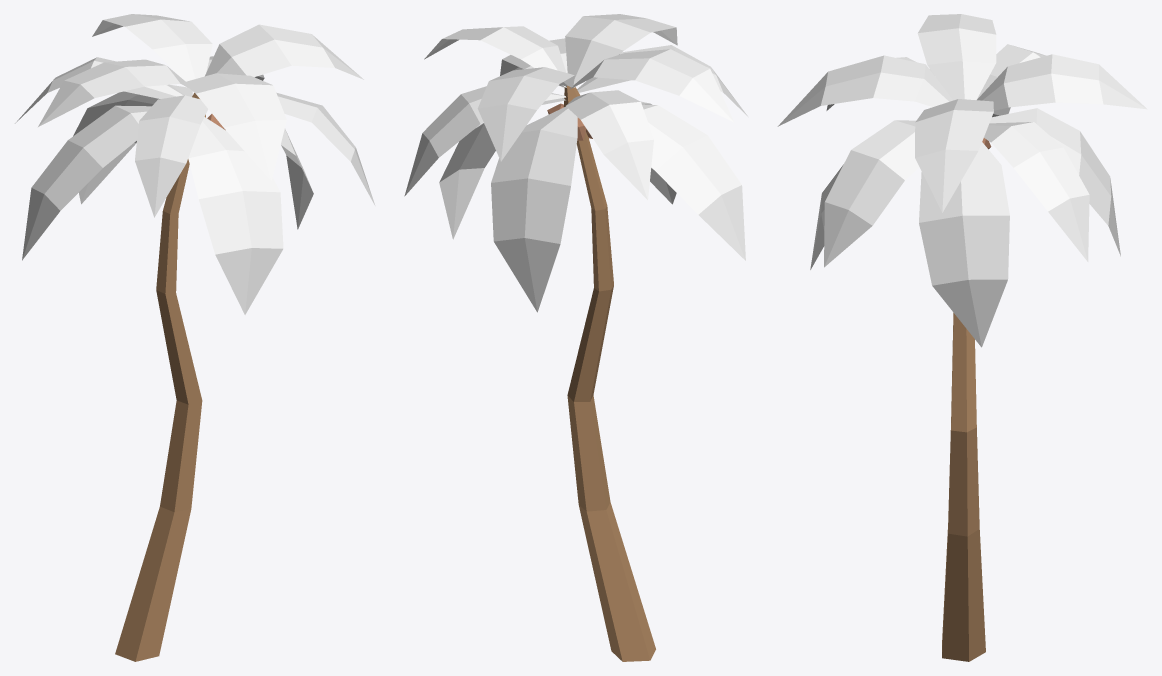
File: Palm_Tree_Coconut_OneSided_l_Snow_04.fbx
3 renders of one model, left to right at view 1: azimuth 30°, elevation 25°; view 2: azimuth 150°, elevation 25°; view 3: azimuth 270°, elevation 25°, orthographic. The views are drawn at different scales.
Visible parts, largest first — view 1: Palm_Tree_Coconut_OneSided_l_Snow_04; view 2: Palm_Tree_Coconut_OneSided_l_Snow_04; view 3: Palm_Tree_Coconut_OneSided_l_Snow_04.
Part boxes in pixels (x1,y1,x2,y2): Palm_Tree_Coconut_OneSided_l_Snow_04: [15, 14, 375, 661]; Palm_Tree_Coconut_OneSided_l_Snow_04: [404, 14, 747, 661]; Palm_Tree_Coconut_OneSided_l_Snow_04: [777, 14, 1147, 661].
Bounding box in the file's own units: 475 × 809 × 440.
